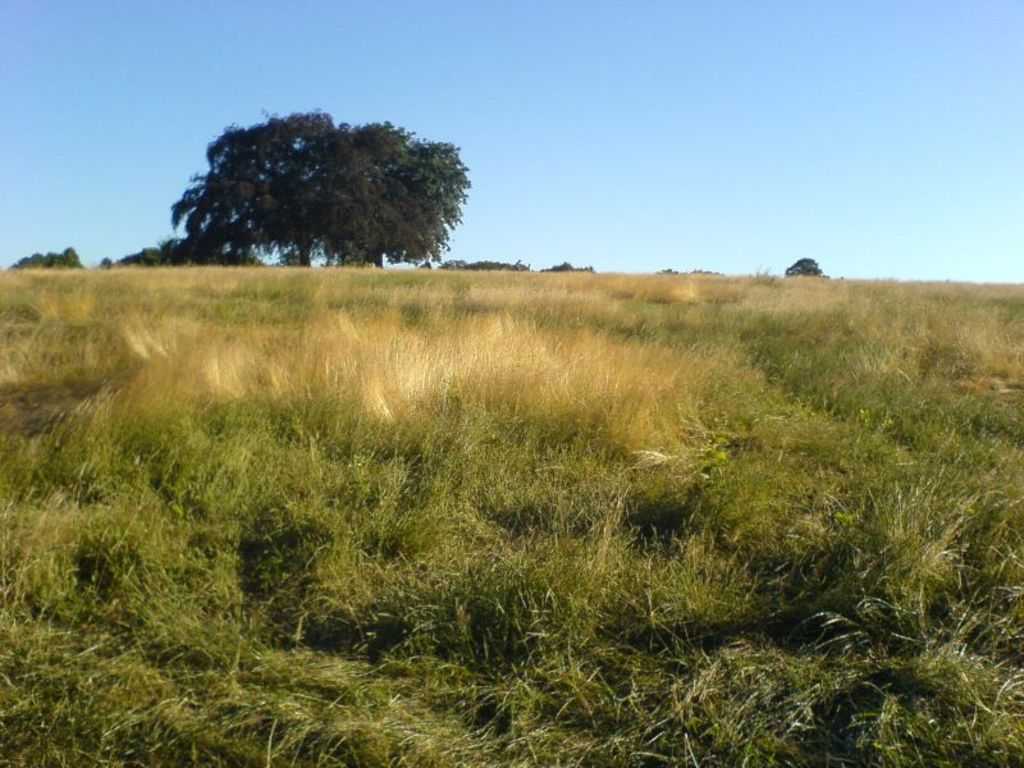Tree: (165, 107, 475, 273), (784, 250, 831, 277)
